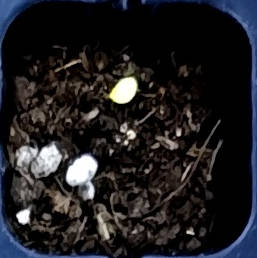pepper seed: (36, 22, 175, 128)
